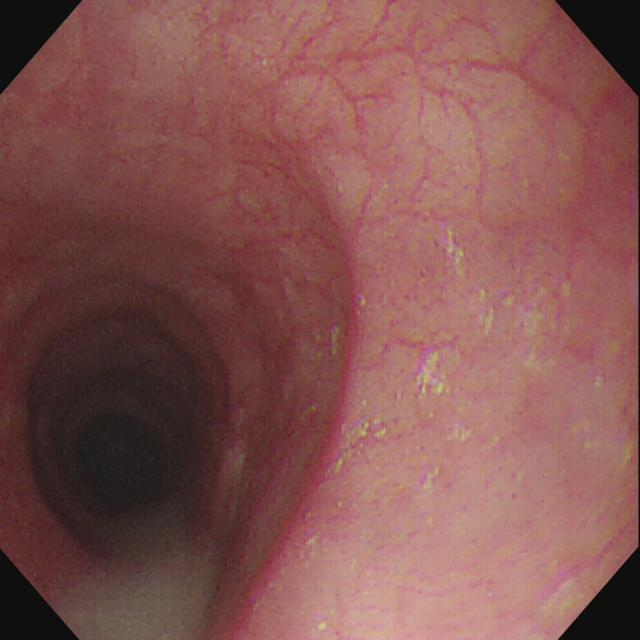E: (79, 419, 161, 513)
J: (335, 400, 390, 477), (416, 349, 452, 397), (443, 226, 469, 278)
